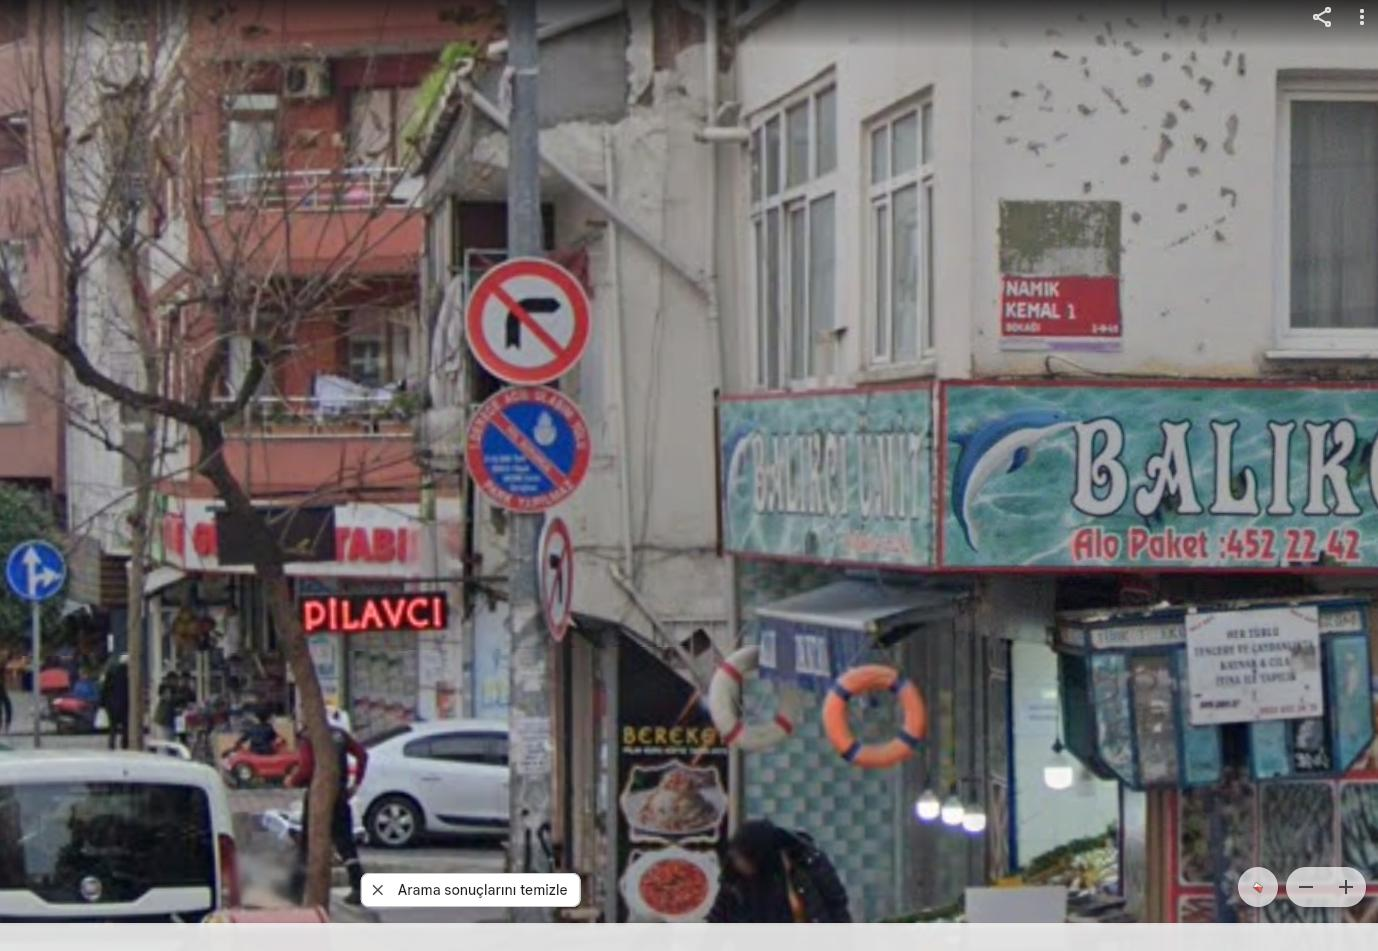rightturnsareforbidden: (469, 259, 590, 379)
